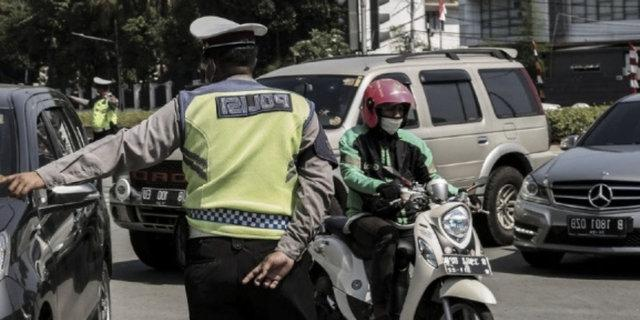helm: (358, 75, 416, 141)
motor: (300, 166, 498, 320)
